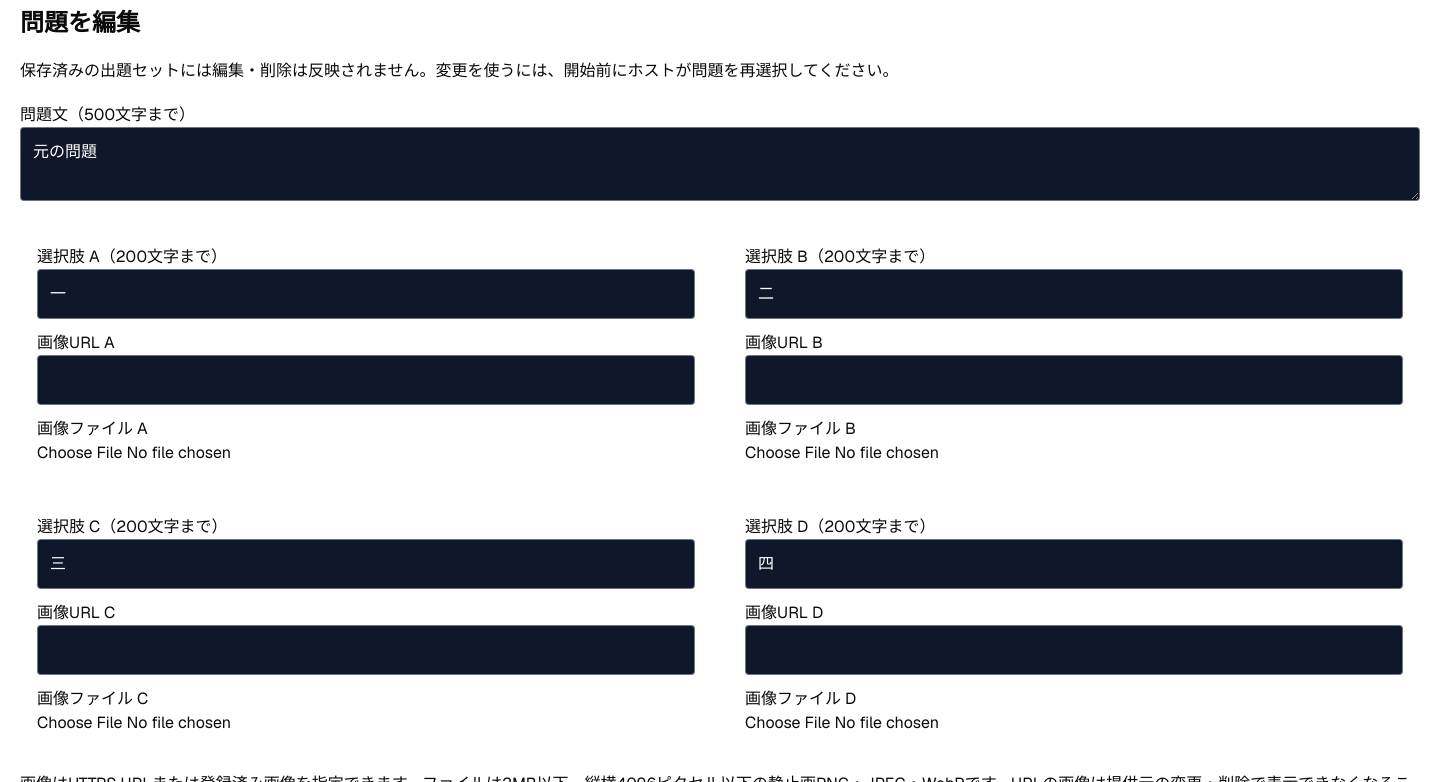
Scenario: blocks invalid image URLs before saving
In the field labelled "画像URL A": (366, 380) 37,355 -> 695,405, type "javascript:alert(1)"
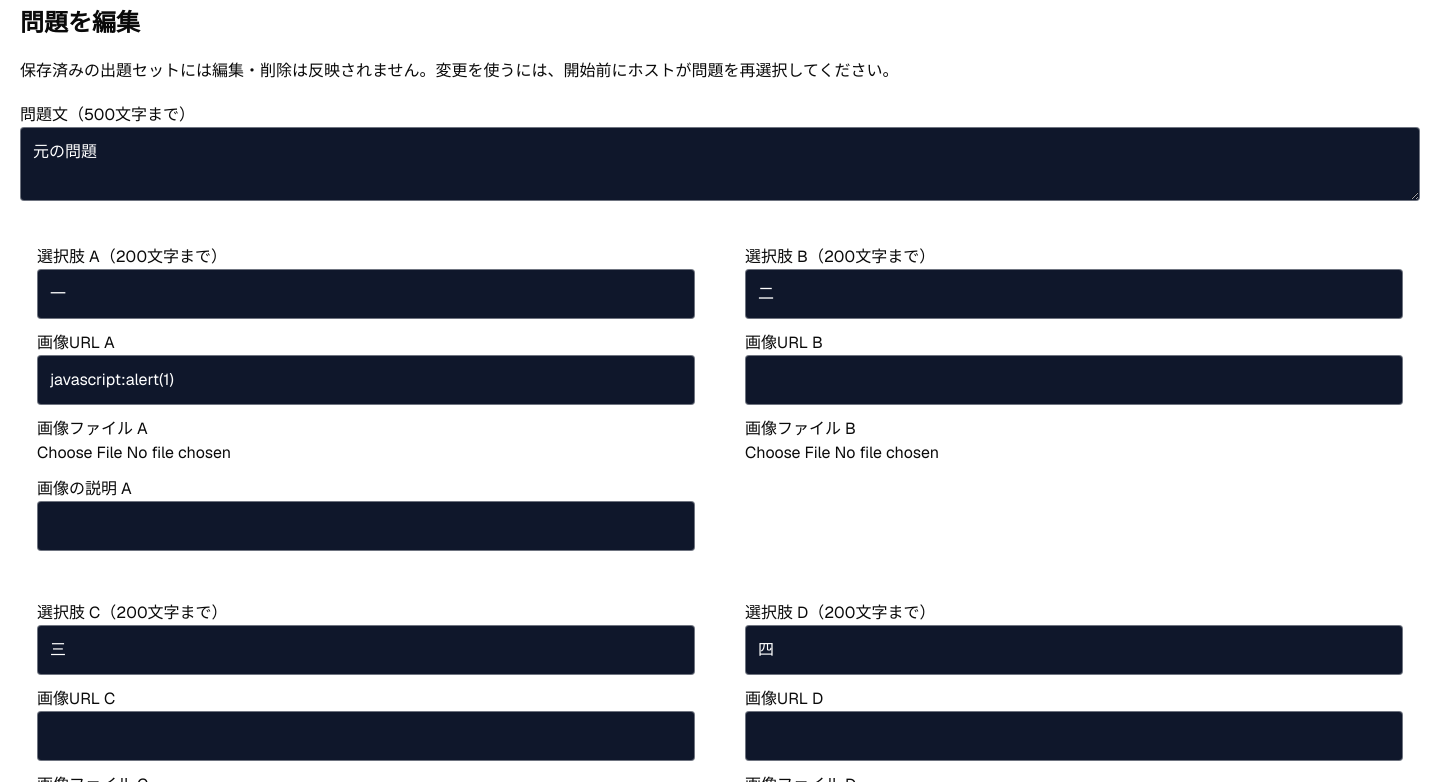
In the field labelled "画像の説明 A": (366, 526) 37,501 -> 695,551, type "説明"
(page scrolled)
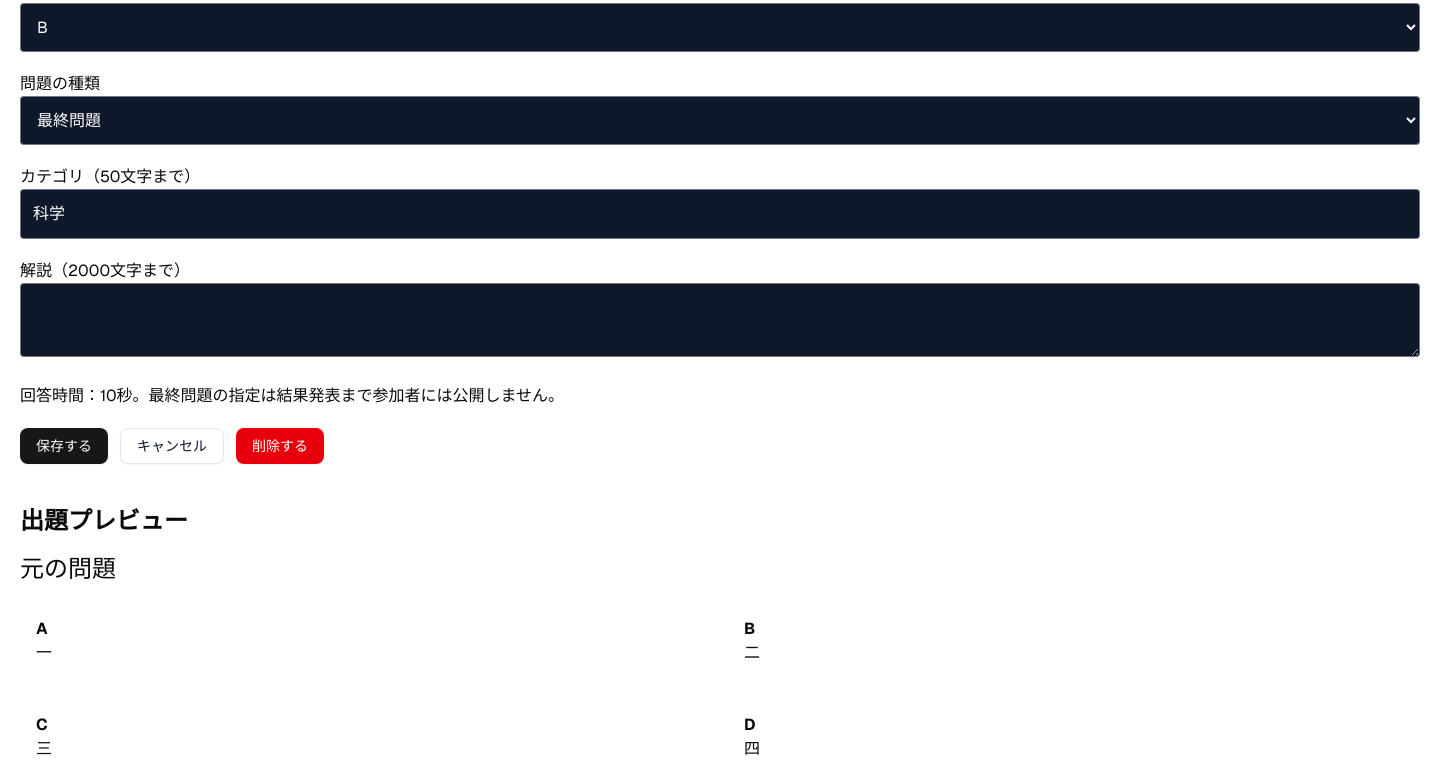
Click the button "保存する": click(64, 446) 20,428 -> 108,464
(page scrolled)
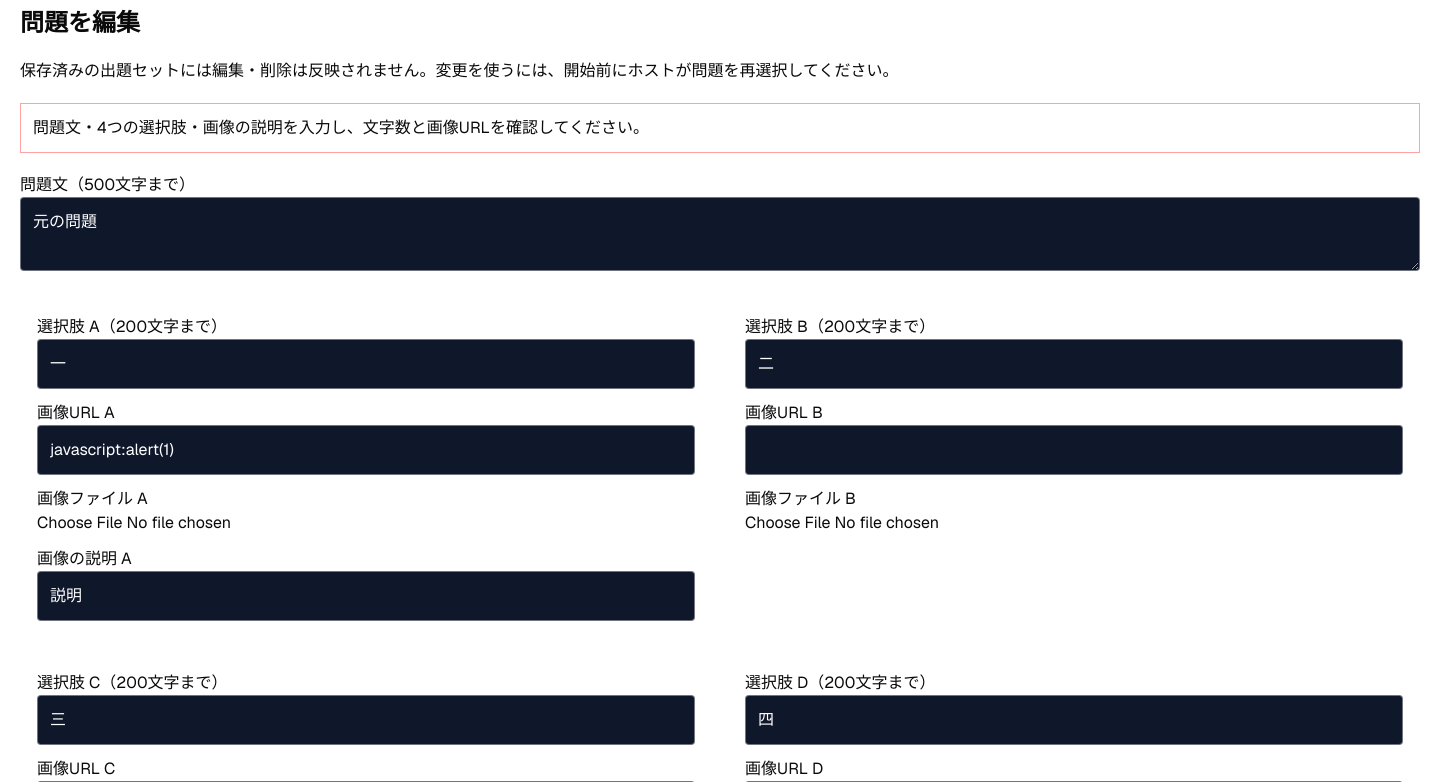
Expected: the message shows "画像URLを確認", 33,117 -> 649,138
